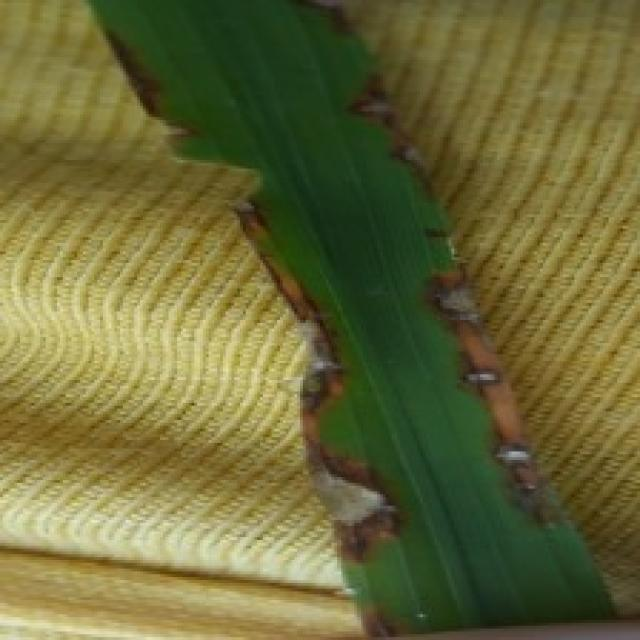Unhealthy: (260, 252, 411, 561), (426, 265, 565, 522), (350, 71, 434, 200), (105, 29, 194, 136), (232, 193, 274, 245), (302, 0, 347, 33)
